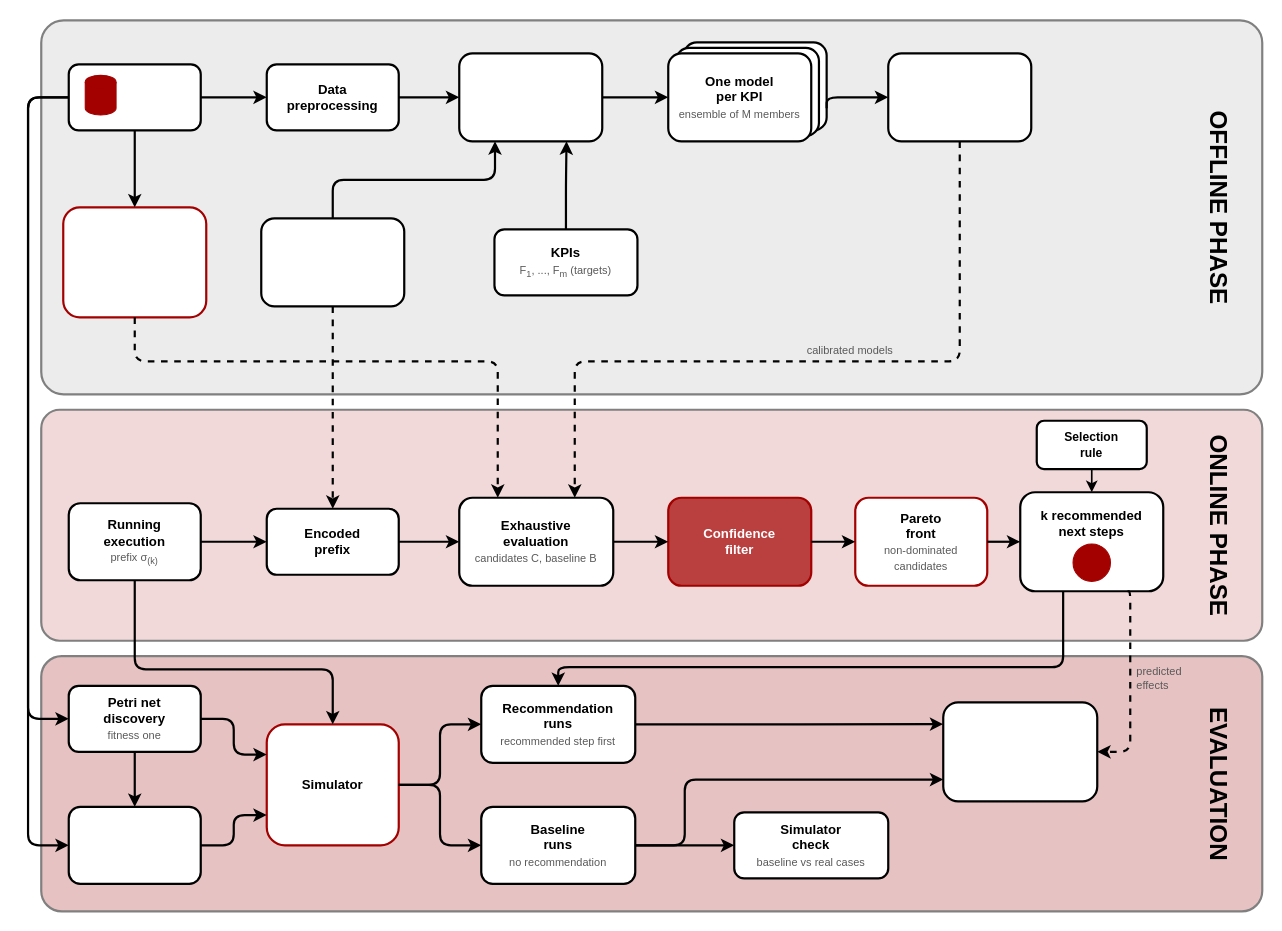
This 1282x931 diagram has some shape labels left out. Each missing label, with the box of its shape:
(a, r): (1072, 543, 1110, 581)
Calibration: (887, 52, 1032, 142)
Event log: (67, 63, 201, 131)
Feasibility prescription module transition system, resource filter: (62, 206, 207, 318)
Predicted vs simulated effect agreement, good points, expected values: (942, 701, 1098, 802)
Prefix encoder activity frequency: (260, 217, 405, 307)
Prefix training set with and without the next step: (458, 52, 603, 142)
Simulation model discovery: (67, 805, 201, 884)
